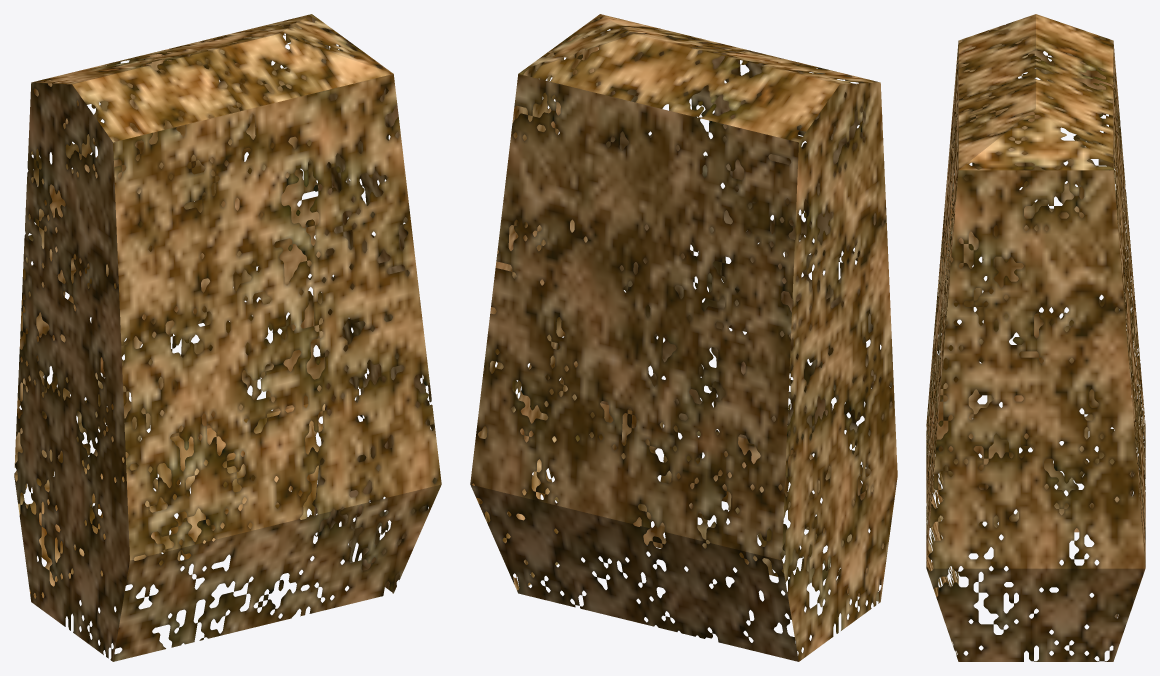
Rendered from bush_tall_half_open_right_autumn.fbx.
3 renders of one model, left to right at view 1: azimuth 30°, elevation 25°; view 2: azimuth 150°, elevation 25°; view 3: azimuth 270°, elevation 25°, orthographic. The views are drawn at different scales.
Parts seen in each view (by area): view 1: bush_tall_half_open_right_autumn; view 2: bush_tall_half_open_right_autumn; view 3: bush_tall_half_open_right_autumn.
Part boxes in pixels (<box>): bush_tall_half_open_right_autumn: <box>14,14,441,661</box>; bush_tall_half_open_right_autumn: <box>470,14,897,661</box>; bush_tall_half_open_right_autumn: <box>926,14,1145,661</box>.
Bounding box in the file's own units: 112 × 188 × 71.91.
Materials: 1 (1 with a texture image).
